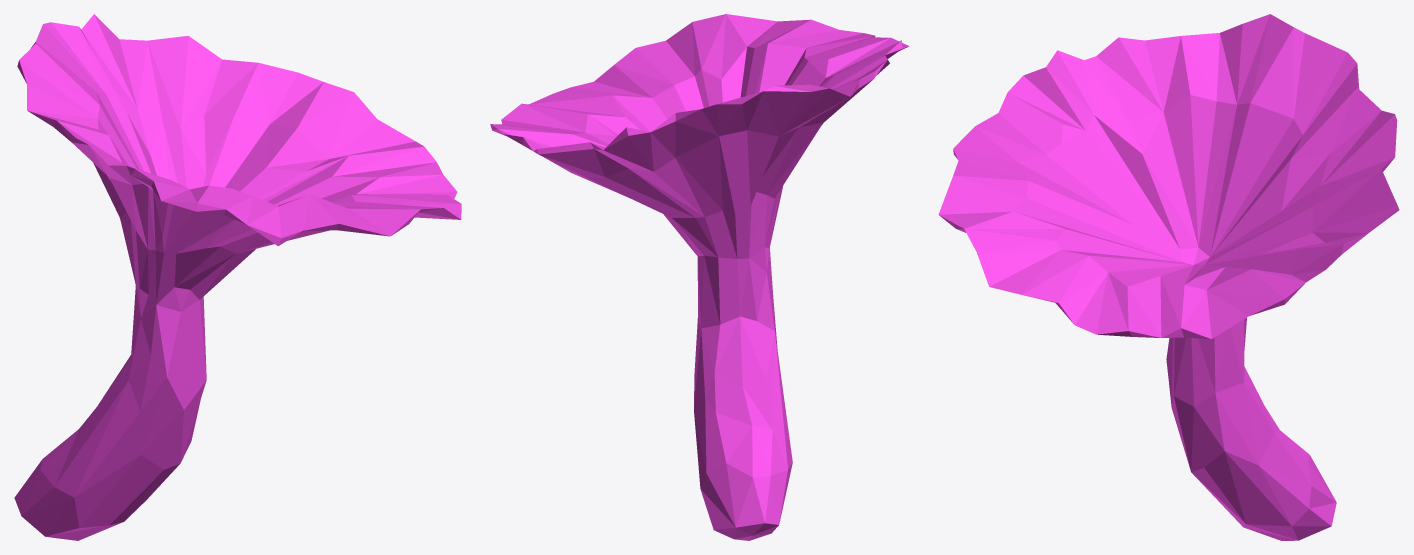
Rendered from SM_Mushroom_Trumpet_Big_B_Fantasy.fbx.
3 renders of one model, left to right at view 1: azimuth 30°, elevation 25°; view 2: azimuth 150°, elevation 25°; view 3: azimuth 270°, elevation 25°, orthographic. The views are drawn at different scales.
Visible parts, largest first — view 1: SM_Mushroom_Trumpet_Big_B_Fantasy; view 2: SM_Mushroom_Trumpet_Big_B_Fantasy; view 3: SM_Mushroom_Trumpet_Big_B_Fantasy.
Boxes of the visible parts, x1,y1,x2,y2 form: SM_Mushroom_Trumpet_Big_B_Fantasy: [14, 14, 461, 540]; SM_Mushroom_Trumpet_Big_B_Fantasy: [490, 14, 909, 540]; SM_Mushroom_Trumpet_Big_B_Fantasy: [938, 14, 1399, 540].
Bounding box in the file's own units: 1.83 × 2.28 × 1.92.
